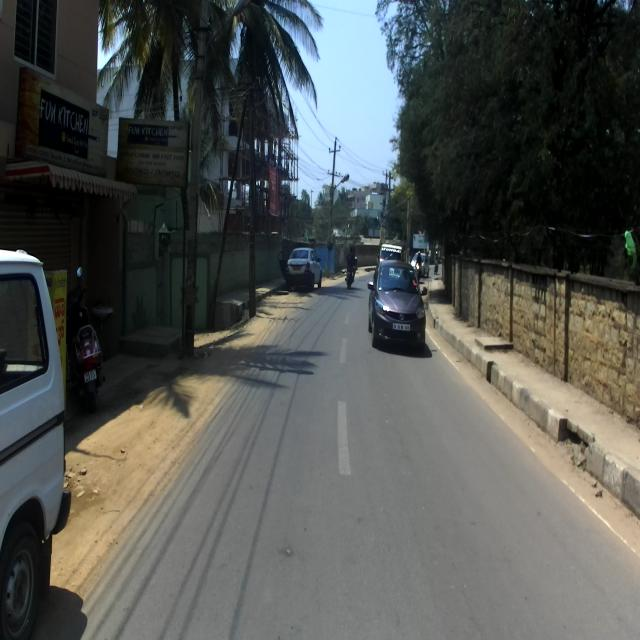car ahead at: (367, 253, 428, 352)
electric pole ahead at: (178, 64, 203, 368)
motorcycle ahead at: (68, 265, 106, 411)
